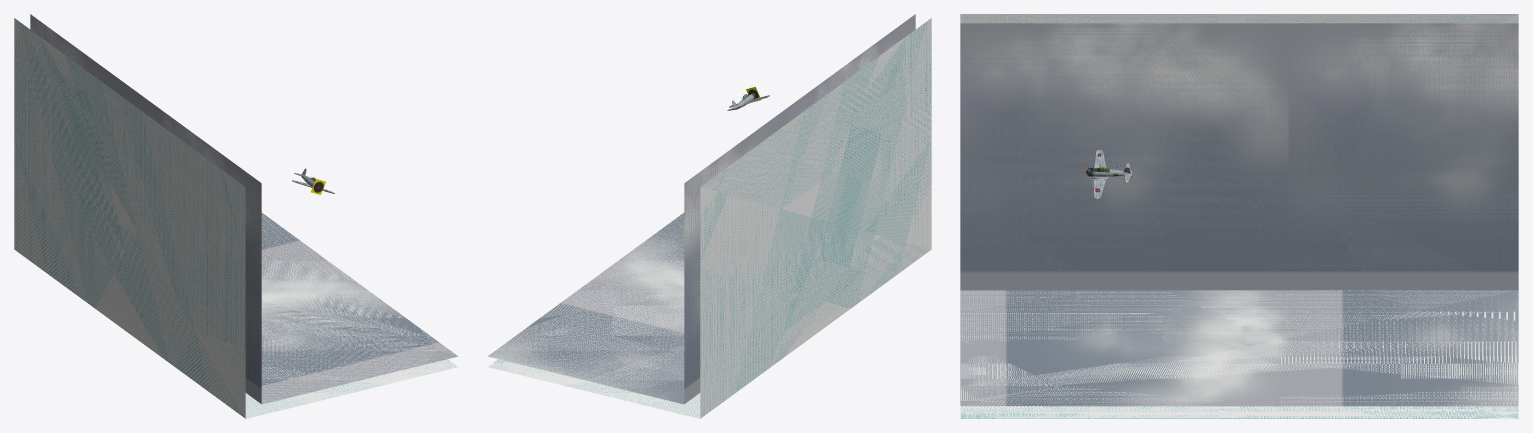
The picture shows the model from 3 angles, left to right: view 1: azimuth 30°, elevation 25°; view 2: azimuth 150°, elevation 25°; view 3: azimuth 270°, elevation 25°; orthographic projection. The views are drawn at different scales.
Parts seen in each view (by area): view 1: SketchUp (×2); view 2: SketchUp (×2); view 3: SketchUp (×2).
Part boxes in pixels (<box>): SketchUp (×2): <box>14,14,458,418</box>; SketchUp (×2): <box>487,14,931,418</box>; SketchUp (×2): <box>960,14,1518,418</box>.
Bounding box in the file's own units: 1614 × 3040 × 1679.
Materials: 22 (14 with a texture image).
